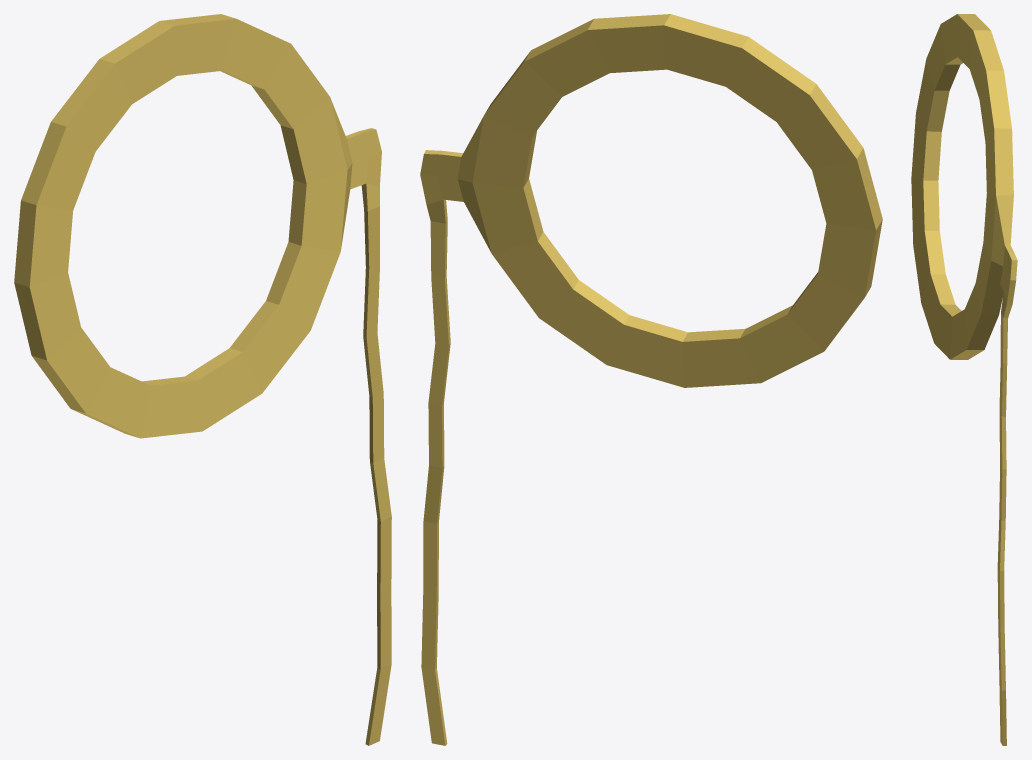
File: monocleSalesman.fbx
3 renders of one model, left to right at view 1: azimuth 30°, elevation 25°; view 2: azimuth 150°, elevation 25°; view 3: azimuth 270°, elevation 25°, orthographic. The views are drawn at different scales.
Parts seen in each view (by area): view 1: Circle.001; view 2: Circle.001; view 3: Circle.001.
Part boxes in pixels (bbox=[...]): Circle.001: bbox=[14, 14, 391, 745]; Circle.001: bbox=[420, 14, 882, 745]; Circle.001: bbox=[911, 14, 1017, 745].
Size of the model in its own units: 0.1502 by 0.2681 by 0.0411.
1 material, 1 textured.
